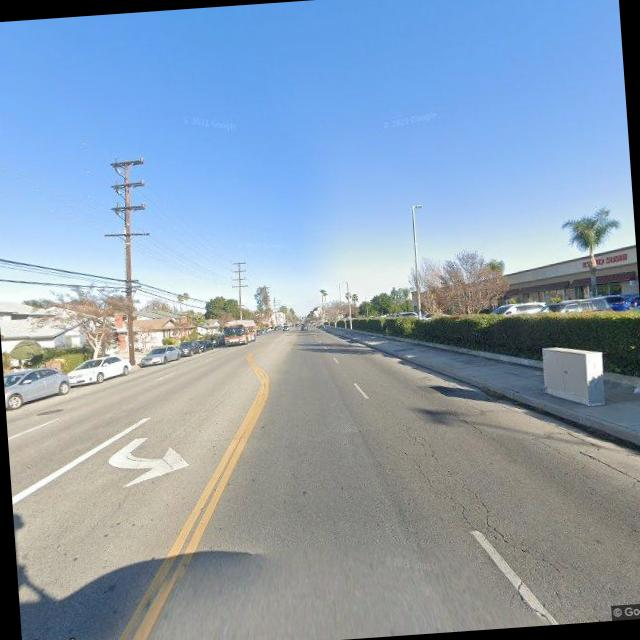crack: (384, 408, 521, 552)
